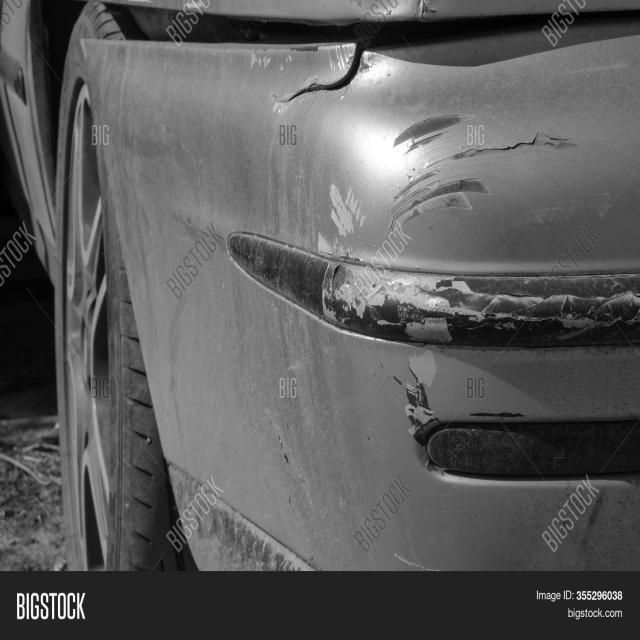misalignment: (78, 3, 640, 67)
scratch: (304, 99, 640, 349), (366, 344, 443, 451), (246, 46, 320, 72), (467, 409, 526, 419)
tear: (275, 43, 365, 103)
